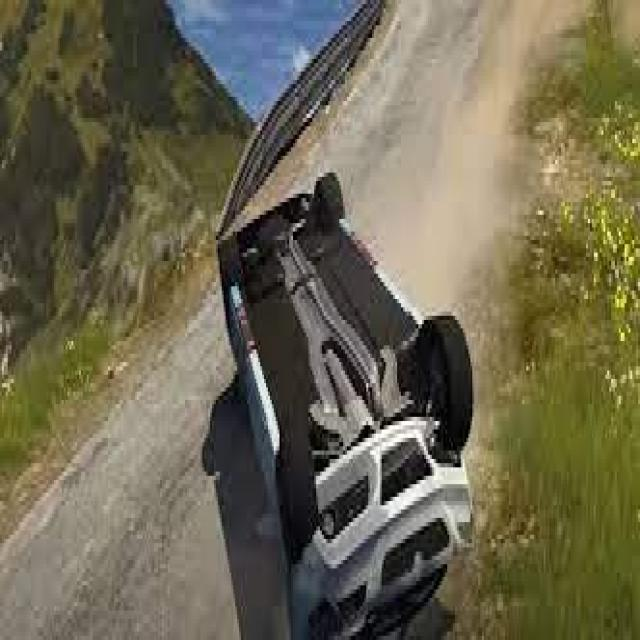severe: (209, 160, 477, 640)
